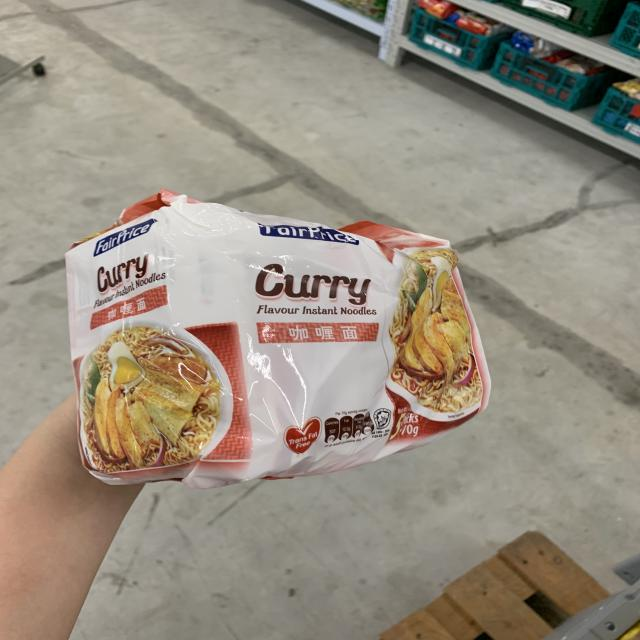object_name: (70, 220, 486, 458)
